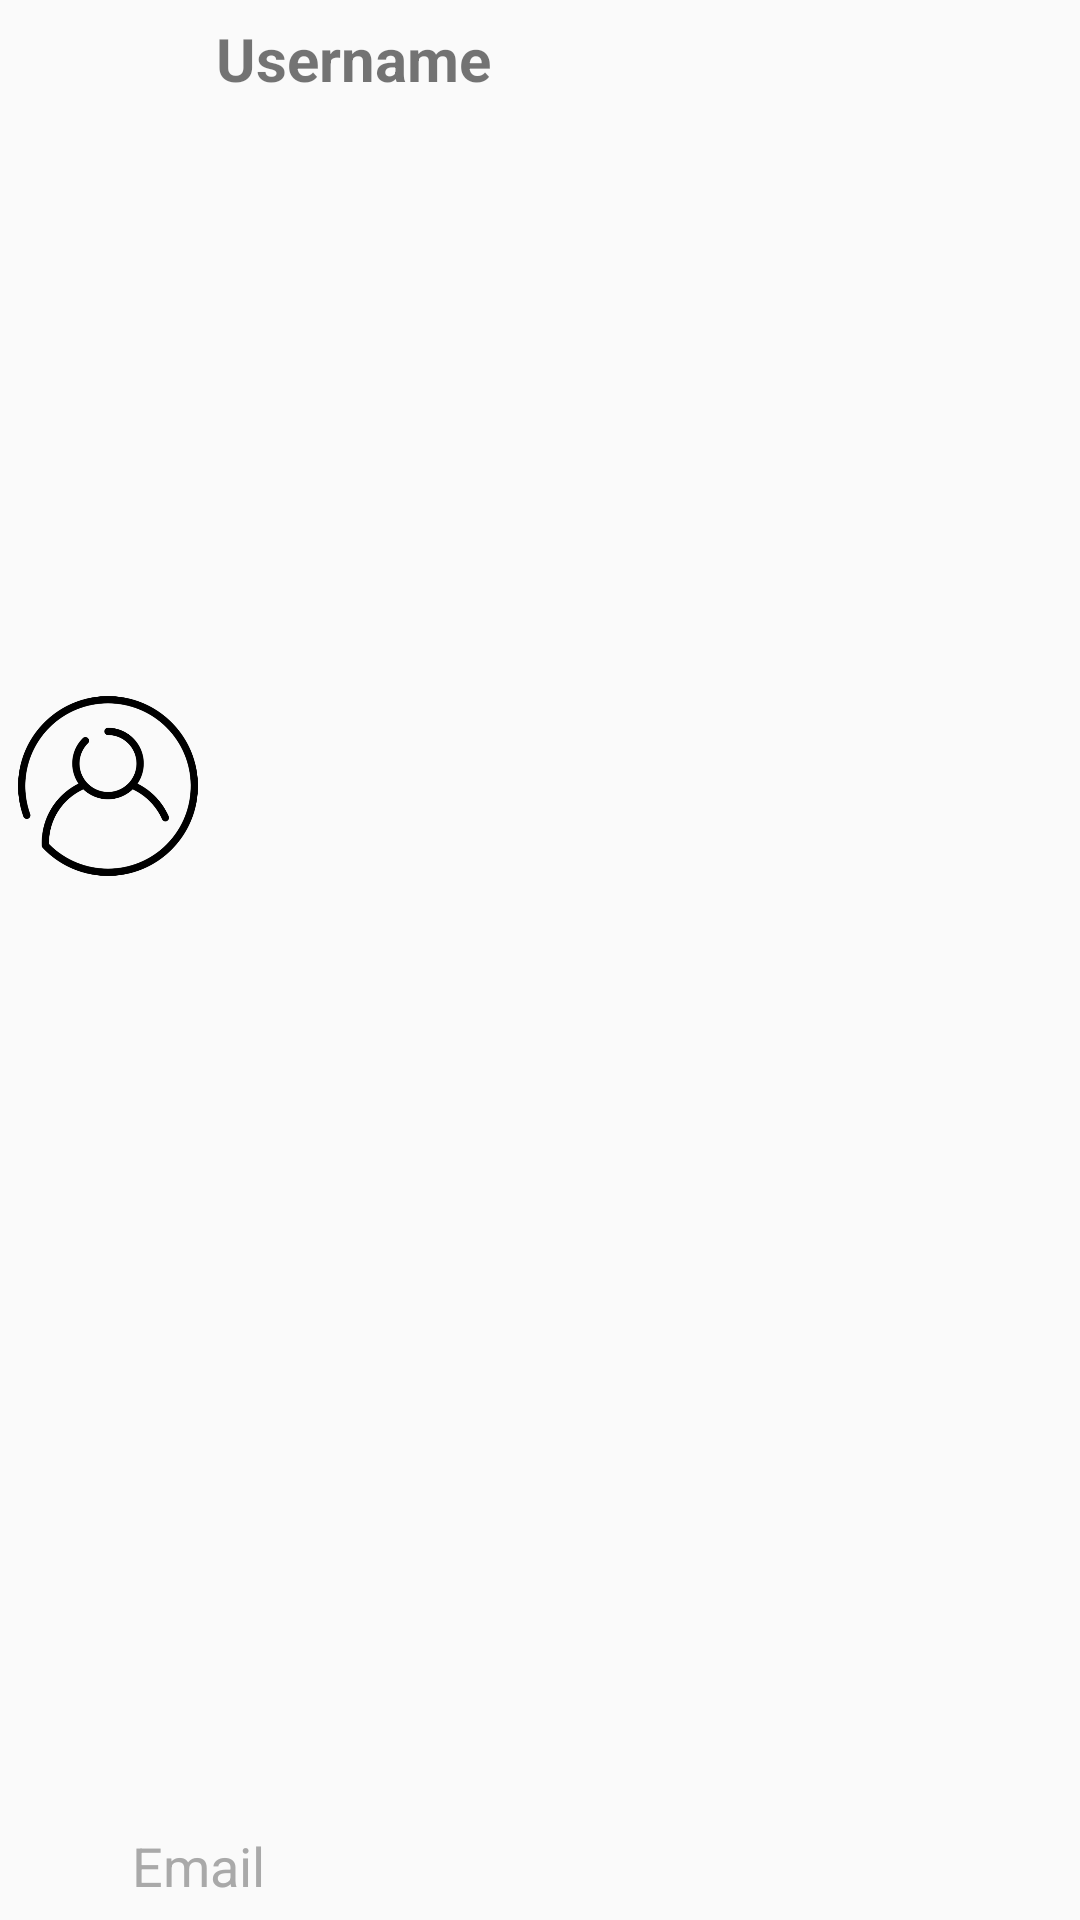

Where to tap for icons on this 1080x1920 app screen, as point (x, y):
usuario: point (108, 786)
